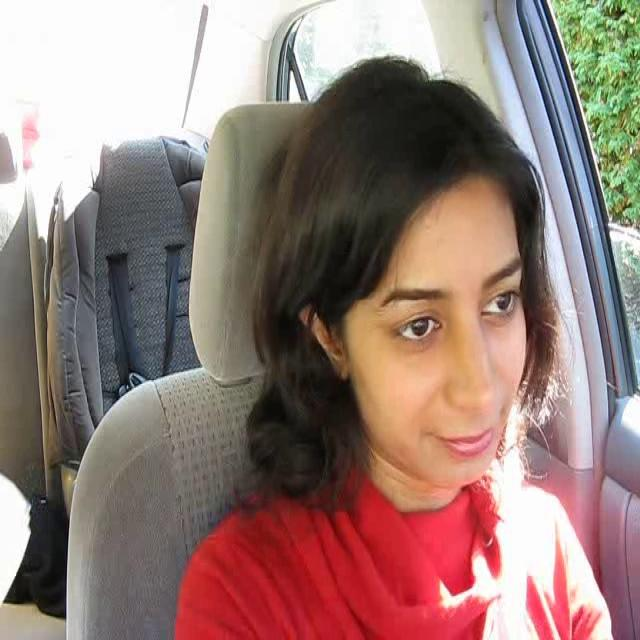close: (424, 419, 506, 459)
